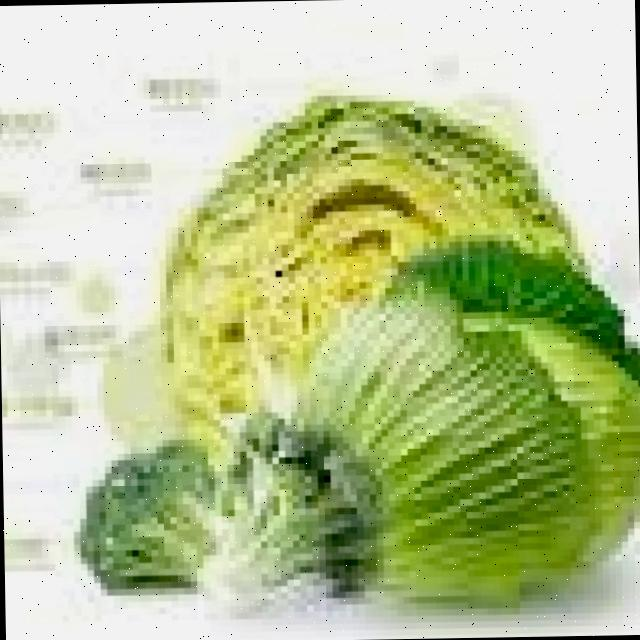cabbage: (313, 251, 640, 624), (145, 90, 528, 398)
